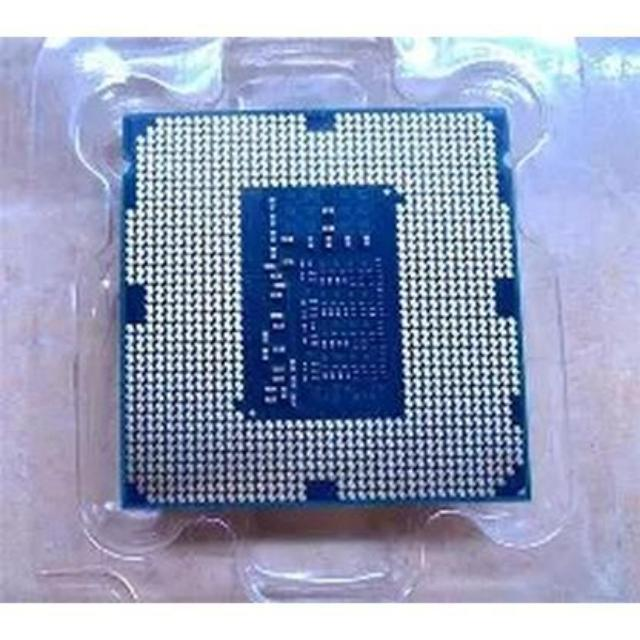CPU: (130, 120, 522, 498)
